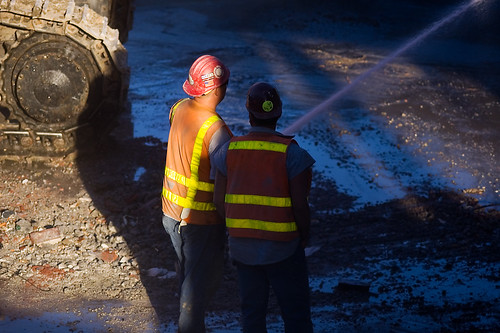person hardhat: (225, 77, 333, 331), (164, 49, 235, 330)
